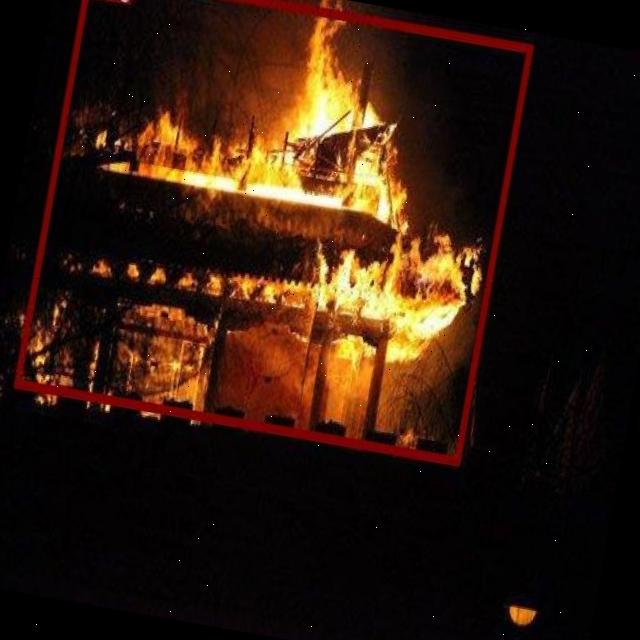fire: (12, 0, 532, 464)
